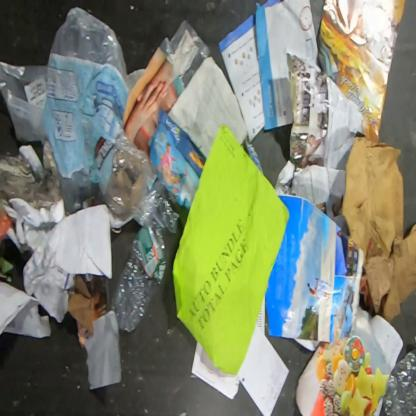cardboard: (295, 304, 404, 416)
rigid_plastic: (110, 219, 167, 334), (131, 188, 180, 235)
soft_plastic: (42, 6, 156, 224), (0, 61, 49, 146), (383, 348, 415, 415)
